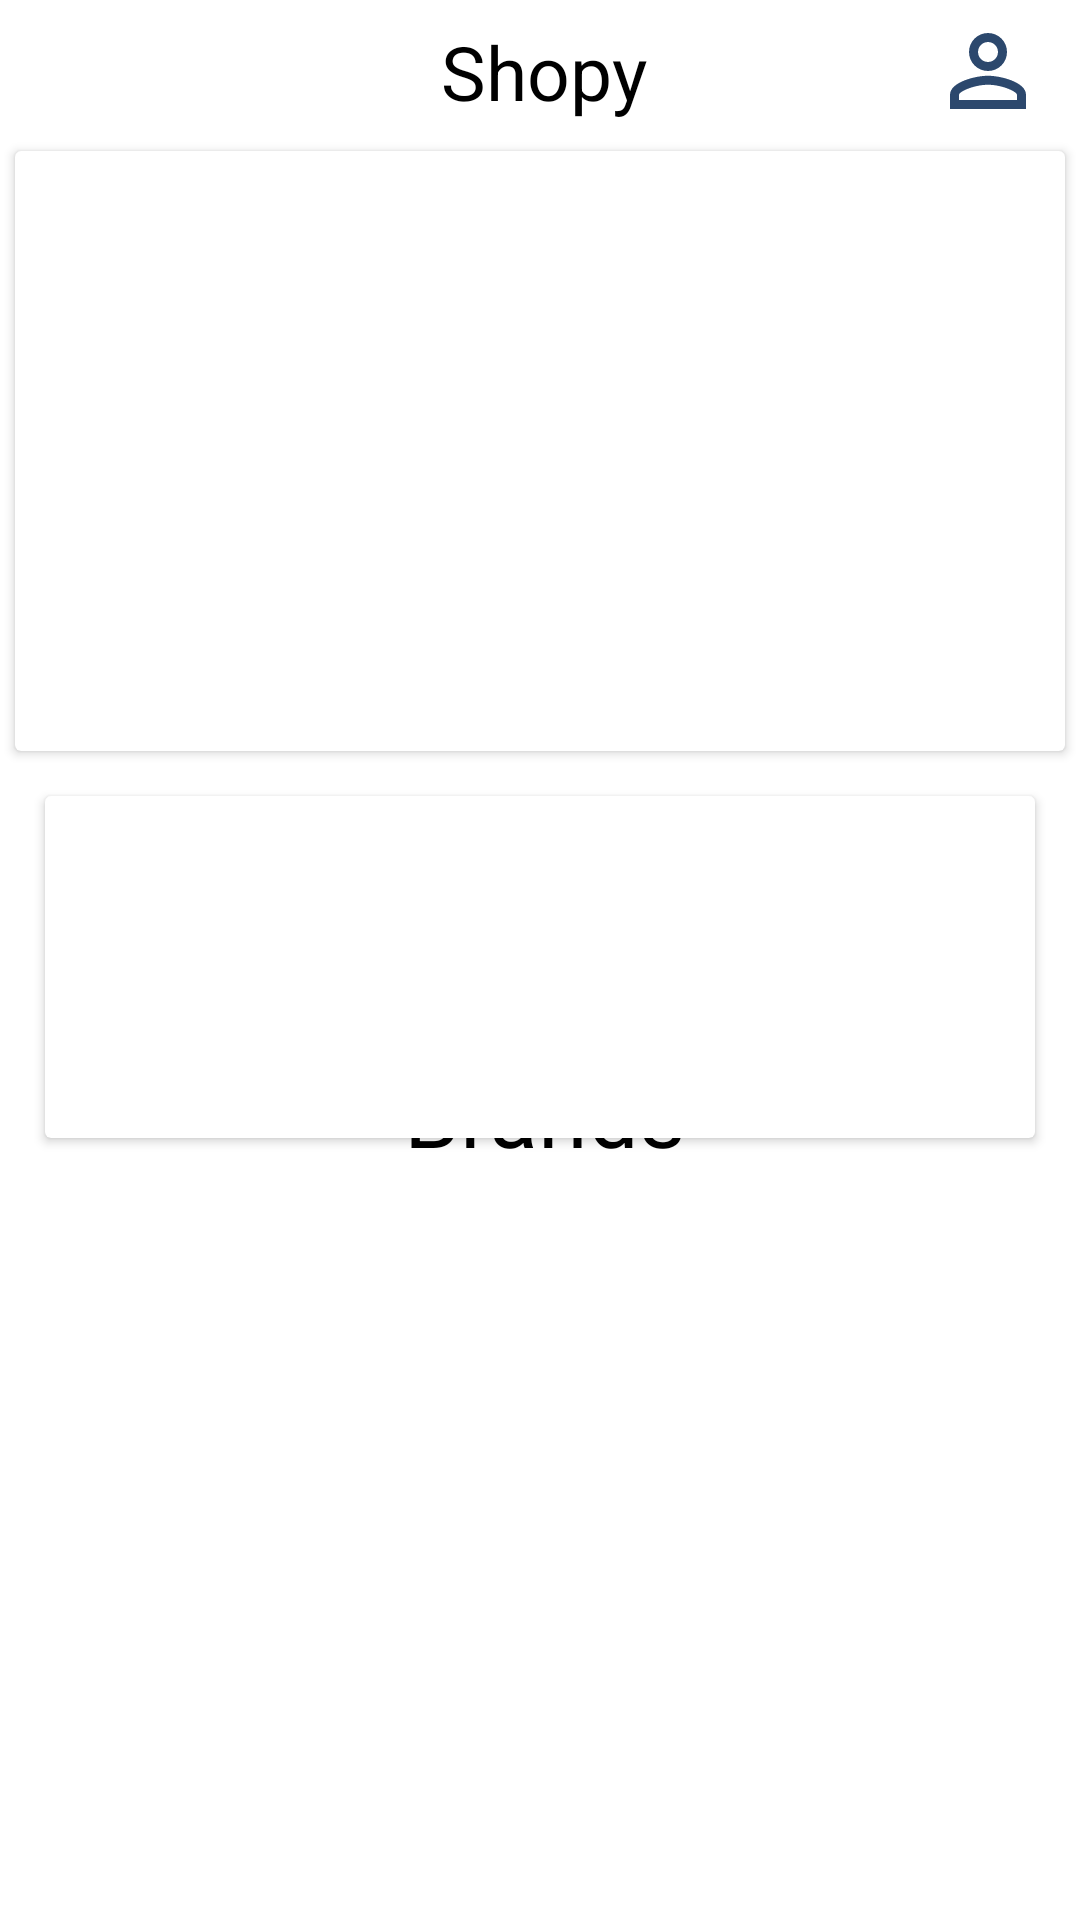

Icon bounding boxes for this 1080×1920 phone screenshot, format [left=x1, top=y1, right=x2, bottom=y2]:
person: [left=950, top=33, right=1026, bottom=109]
